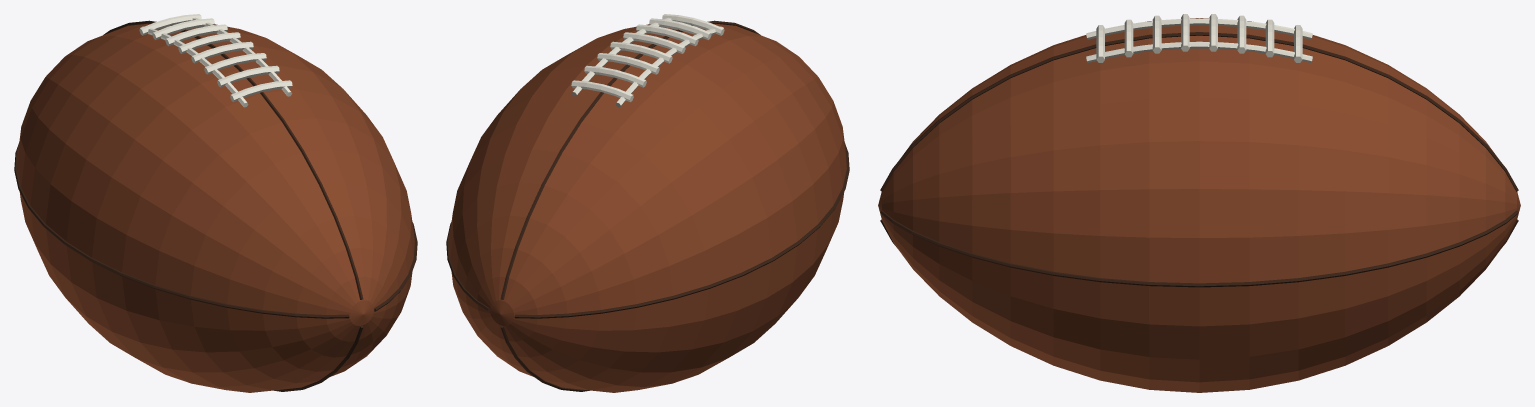
File: football.glb
3 renders of one model, left to right at view 1: azimuth 30°, elevation 25°; view 2: azimuth 150°, elevation 25°; view 3: azimuth 270°, elevation 25°, orthographic. The views are drawn at different scales.
Visible parts, largest first — view 1: Football; view 2: Football; view 3: Football.
Part boxes in pixels (box(x1,y1,x2,y2)): Football: box(14, 14, 417, 392); Football: box(446, 14, 849, 392); Football: box(878, 14, 1520, 392).
Size of the model in its own units: 0.1666 by 0.1692 by 0.28.
